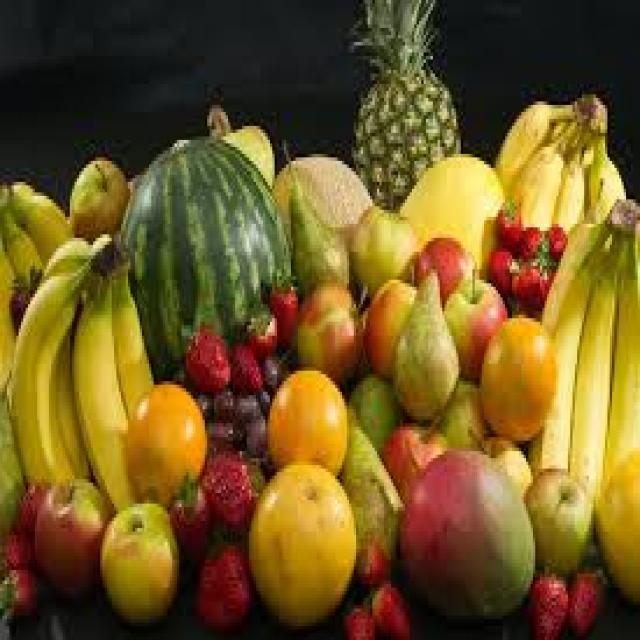organic waste: (116, 130, 288, 374), (524, 203, 612, 497), (393, 448, 531, 608), (4, 258, 98, 490), (67, 241, 135, 507), (247, 454, 351, 622), (564, 196, 622, 493), (354, 70, 456, 199), (398, 147, 500, 269), (40, 230, 86, 482), (121, 378, 202, 507), (389, 266, 456, 420), (342, 398, 403, 566), (30, 472, 112, 595), (602, 199, 638, 472), (282, 136, 346, 284), (477, 307, 552, 433), (98, 500, 177, 616), (508, 94, 578, 224), (270, 147, 372, 234), (104, 241, 154, 416), (268, 364, 342, 472), (521, 465, 591, 577), (594, 434, 638, 608), (347, 0, 435, 77), (491, 91, 570, 175), (346, 196, 409, 297), (444, 266, 502, 371), (191, 521, 249, 626), (293, 280, 361, 367), (363, 276, 421, 374), (205, 101, 272, 182), (200, 441, 261, 528), (65, 154, 128, 238), (554, 91, 591, 224), (349, 367, 403, 455), (2, 182, 68, 252), (582, 116, 624, 220), (380, 416, 442, 486), (438, 374, 488, 451), (468, 426, 528, 489), (165, 469, 207, 556), (0, 384, 23, 535), (0, 210, 44, 283), (177, 325, 226, 385), (526, 570, 570, 633), (566, 566, 602, 636), (0, 248, 19, 378), (361, 577, 405, 633), (5, 266, 42, 329), (268, 262, 296, 336), (352, 532, 394, 580), (242, 301, 279, 353), (0, 563, 37, 609), (512, 259, 549, 304), (226, 339, 256, 392), (496, 189, 521, 248), (2, 518, 35, 560), (486, 242, 517, 284), (14, 479, 42, 525), (342, 598, 372, 637), (242, 409, 265, 451), (542, 217, 566, 255), (254, 353, 279, 385), (519, 220, 540, 256), (233, 388, 256, 416), (218, 416, 240, 444), (193, 381, 210, 416), (209, 385, 233, 409), (203, 412, 221, 433), (254, 384, 268, 406)
